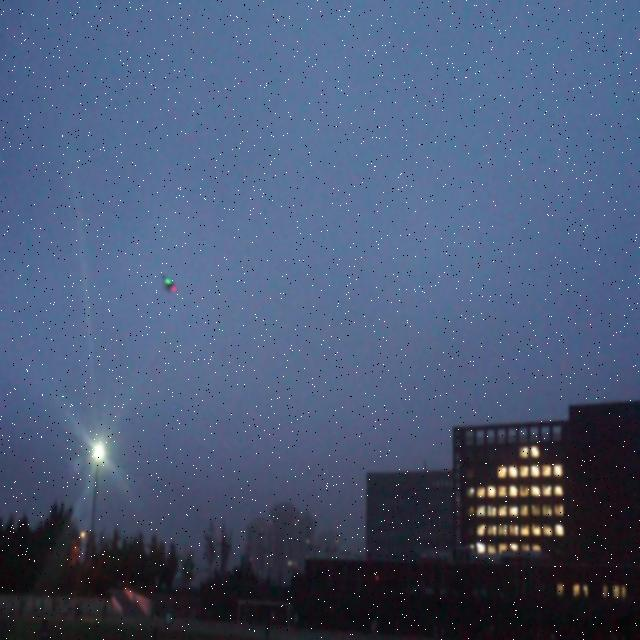UAV: (162, 274, 177, 292)
